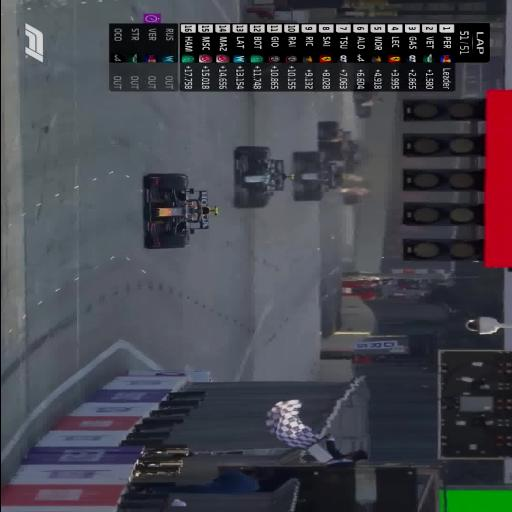f1_car: (144, 173, 217, 249), (318, 121, 368, 205), (234, 146, 293, 208), (318, 121, 365, 173), (293, 151, 341, 201), (353, 90, 381, 118)
